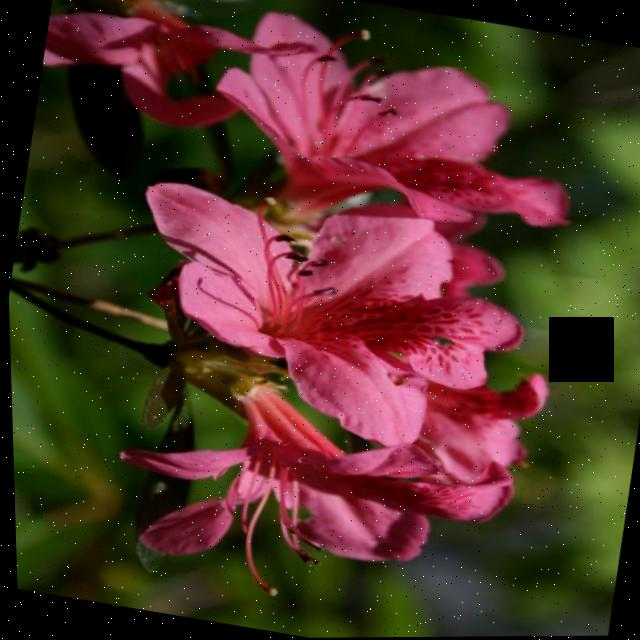azalea: (198, 2, 609, 276), (135, 177, 522, 466), (178, 385, 548, 639)
